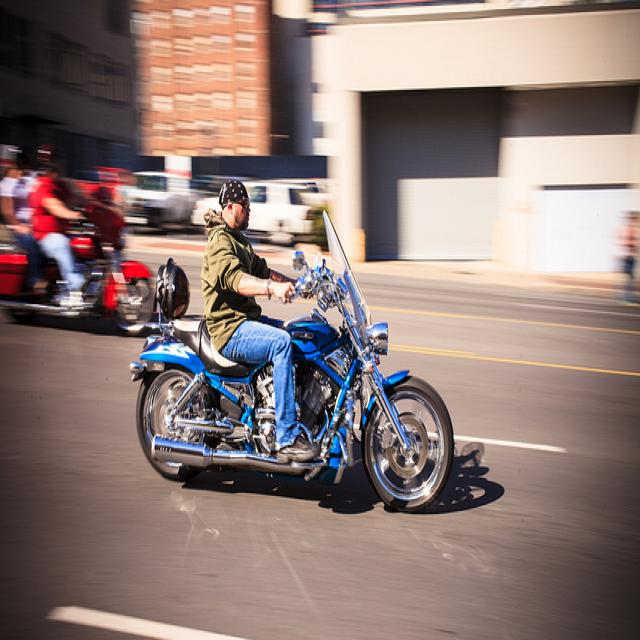motor: (133, 203, 454, 519), (0, 191, 155, 335)
